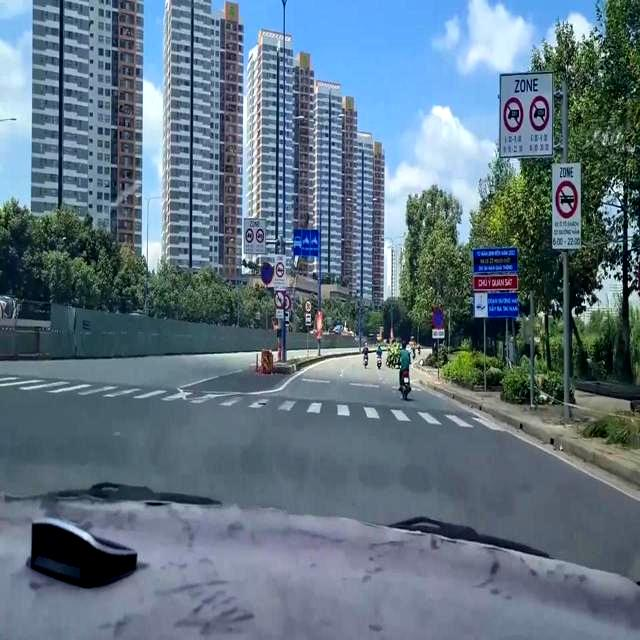Biển phụ: (274, 308, 287, 323), (432, 327, 445, 341), (304, 312, 313, 331)
Cấm các phương tiện hoạt động trong khung giờ cố định: (493, 62, 555, 164), (549, 160, 583, 254), (240, 205, 269, 257)
Cấm dừng - Cấm đỗ: (430, 303, 445, 329), (259, 259, 272, 285)
Cấm xe máy: (273, 288, 287, 309)
Giới hạn tốc độ: 80Km/h: (304, 297, 315, 312)
Khác: (471, 244, 519, 322)
Làn đường cho từng xe: (292, 220, 320, 256)
